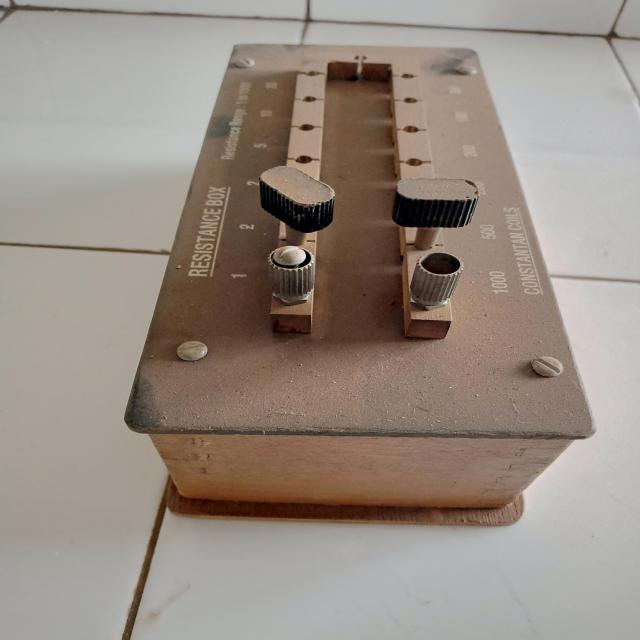Pinned Resistance Box: (106, 21, 594, 546)
